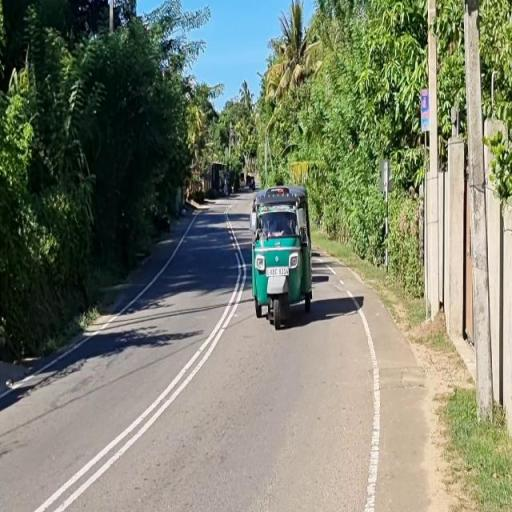double_white_line: (32, 199, 250, 512)
